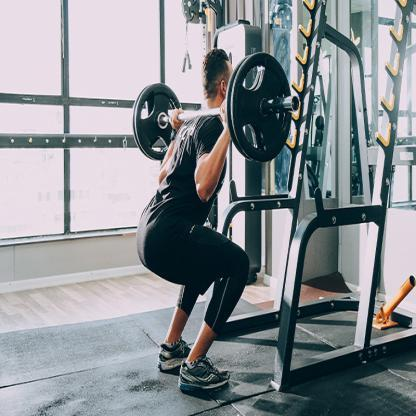Barbell: (291, 95, 302, 115)
